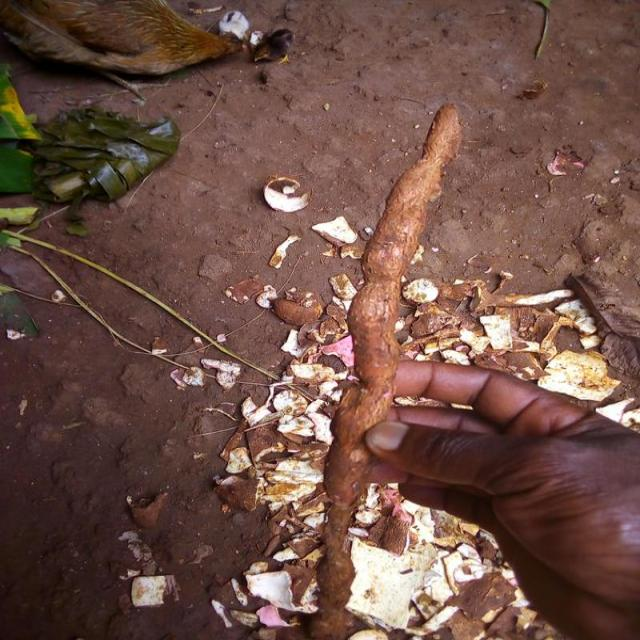cassava leaf: (22, 102, 181, 208)
